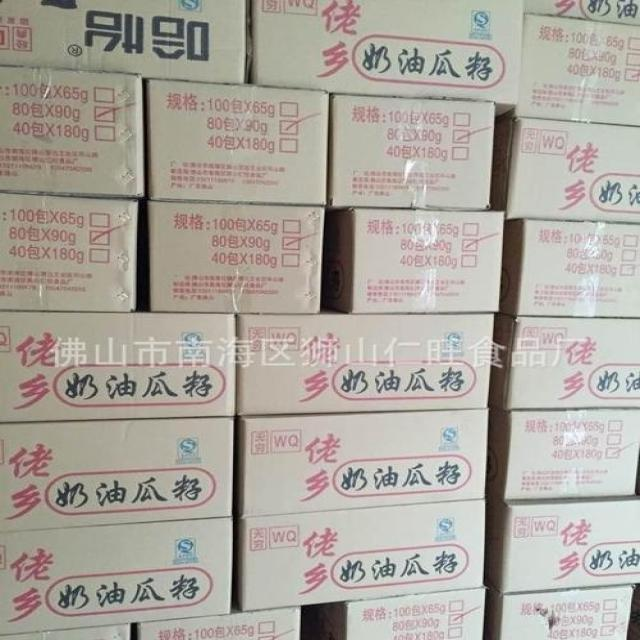box: (250, 0, 525, 119), (234, 500, 486, 611), (236, 409, 488, 517), (0, 518, 232, 635), (1, 418, 234, 533), (238, 315, 494, 417), (146, 82, 330, 206), (147, 202, 325, 313), (0, 68, 146, 198), (329, 95, 494, 210), (329, 210, 503, 312), (507, 0, 640, 127), (0, 195, 138, 313), (493, 117, 639, 224), (486, 495, 640, 593), (490, 316, 639, 411), (486, 410, 640, 500), (500, 220, 640, 318), (308, 587, 486, 639), (485, 584, 632, 640), (134, 605, 301, 639), (1, 624, 131, 639)
